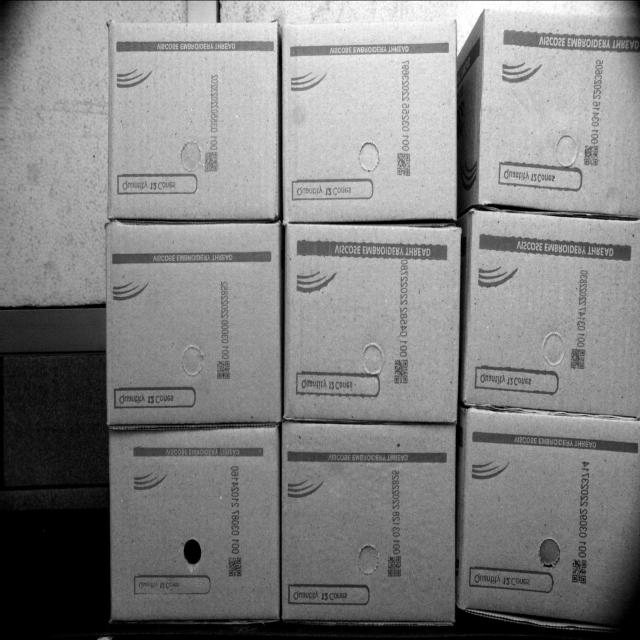cardboxes: (457, 414, 635, 634), (463, 211, 639, 416), (108, 220, 282, 427), (280, 426, 452, 632), (282, 230, 456, 430), (288, 14, 457, 218), (476, 13, 640, 212), (112, 426, 274, 626), (110, 29, 276, 220)
